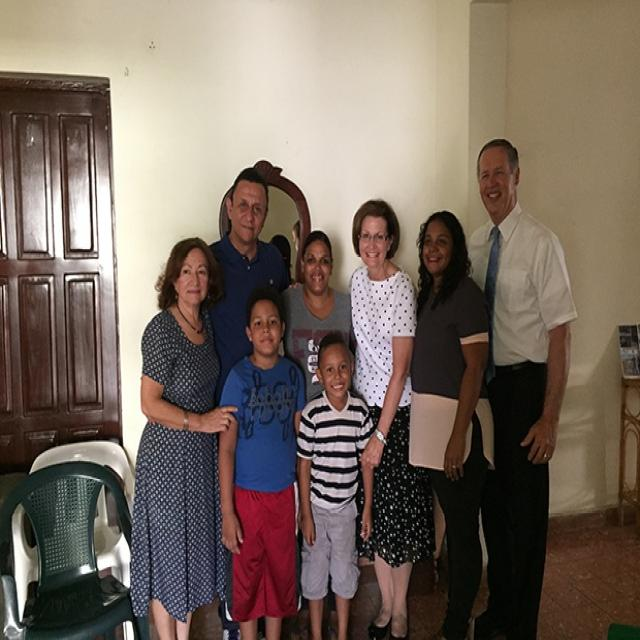body: (464, 135, 574, 640), (127, 234, 240, 639), (342, 194, 439, 639), (402, 202, 500, 639), (212, 284, 310, 638), (279, 227, 354, 640), (292, 324, 378, 638), (205, 161, 290, 414), (272, 215, 306, 278)
